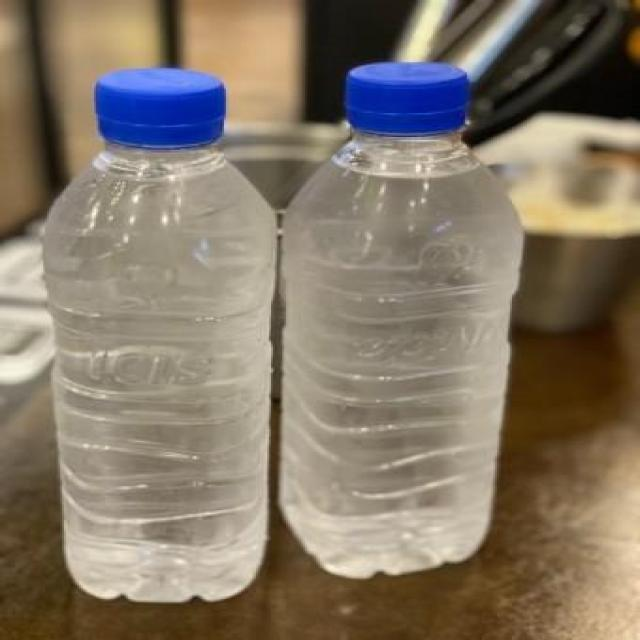bottle: (271, 66, 527, 578), (42, 63, 284, 604)
